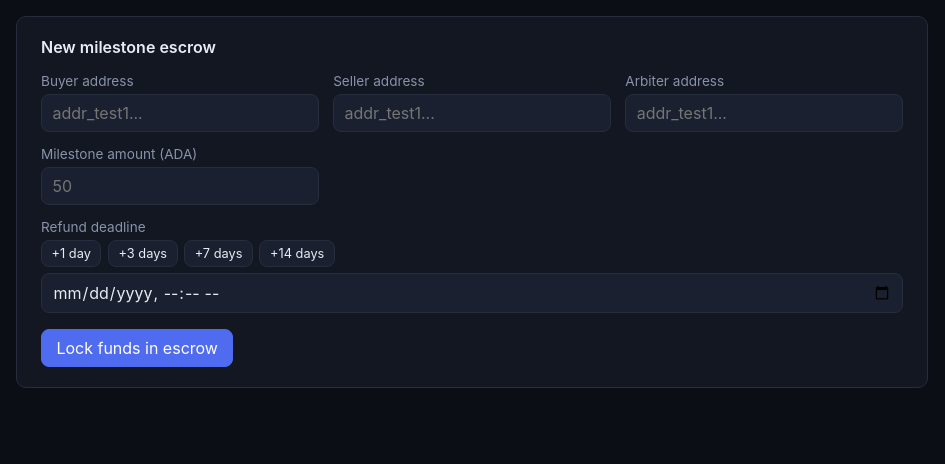
Test: EscrowForm › blocks submission and shows an error when addresses are missing
Click the button "Lock funds in escrow".
click(137, 348)  # box x1=41 y1=329 x2=233 y2=367
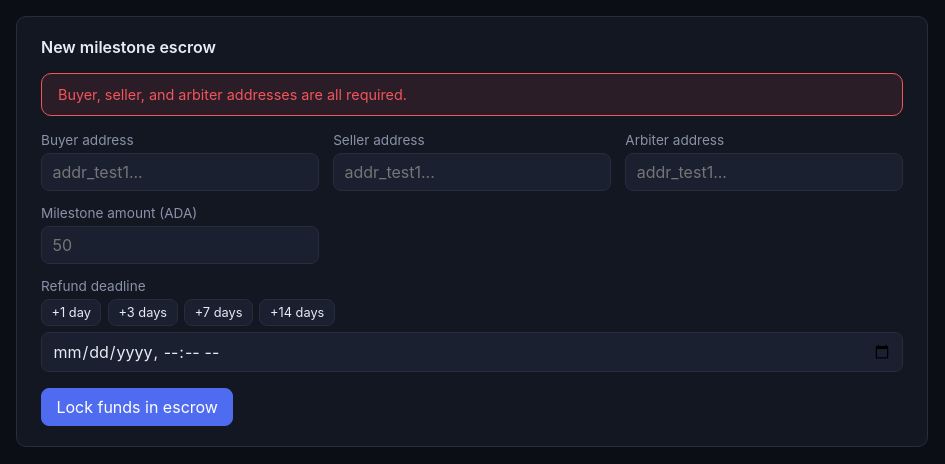
Check: the text "Buyer, seller, and arbiter addresses are all required." is shown, box x1=41 y1=73 x2=903 y2=116
